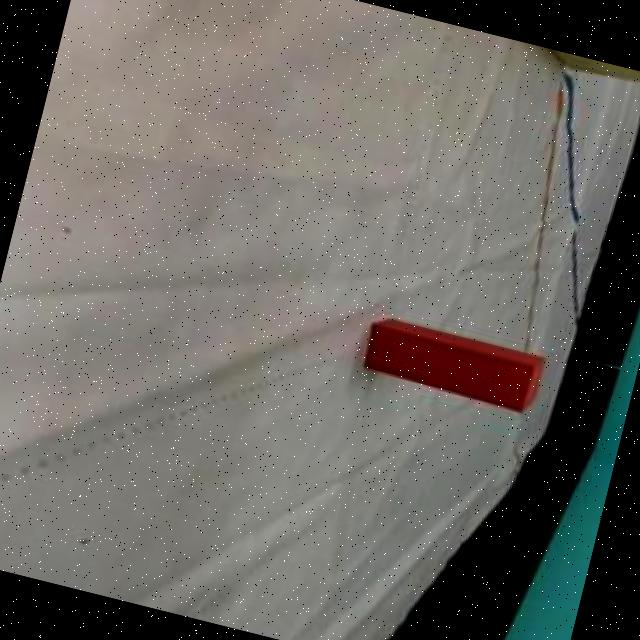redbox: (360, 314, 550, 416)
